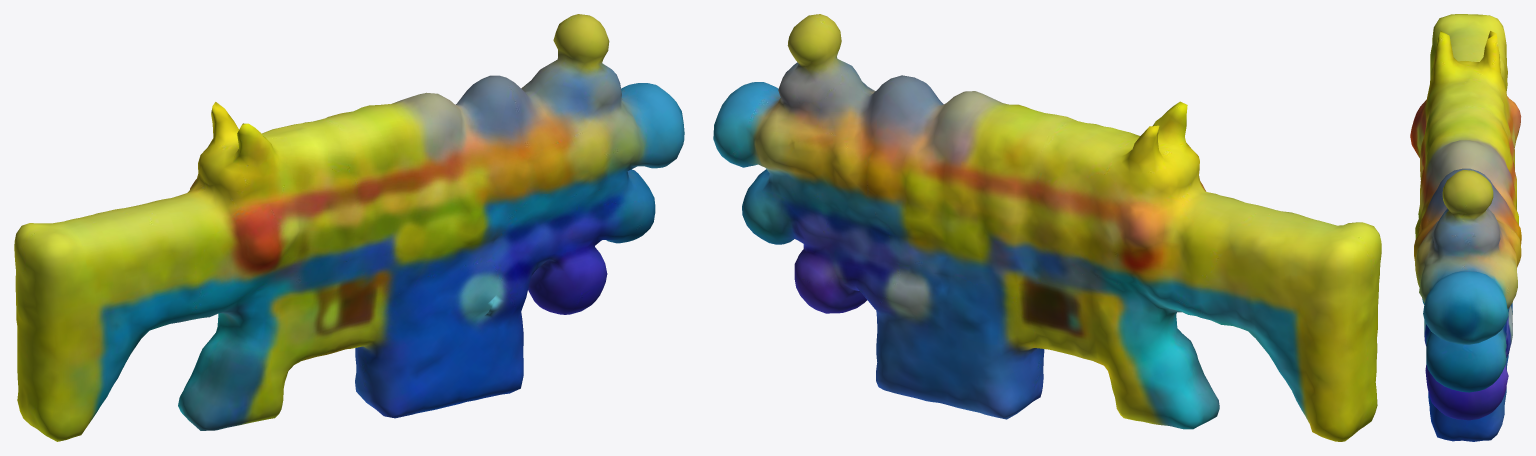
Rendered from A_yellow_orange_and_light-blue_rubbery_assault_rifle_that_loo_0406115530_preview.fbx.
The picture shows the model from 3 angles, left to right: view 1: azimuth 30°, elevation 25°; view 2: azimuth 150°, elevation 25°; view 3: azimuth 270°, elevation 25°; orthographic projection. The views are drawn at different scales.
Visible parts, largest first — view 1: Mesh1; view 2: Mesh1; view 3: Mesh1.
Boxes of the visible parts, <box> form: Mesh1: <box>14,14,684,441</box>; Mesh1: <box>713,14,1381,441</box>; Mesh1: <box>1410,14,1521,441</box>.
Size of the model in its own units: 120 by 61.13 by 20.29.
Materials: 1 (1 with a texture image).
